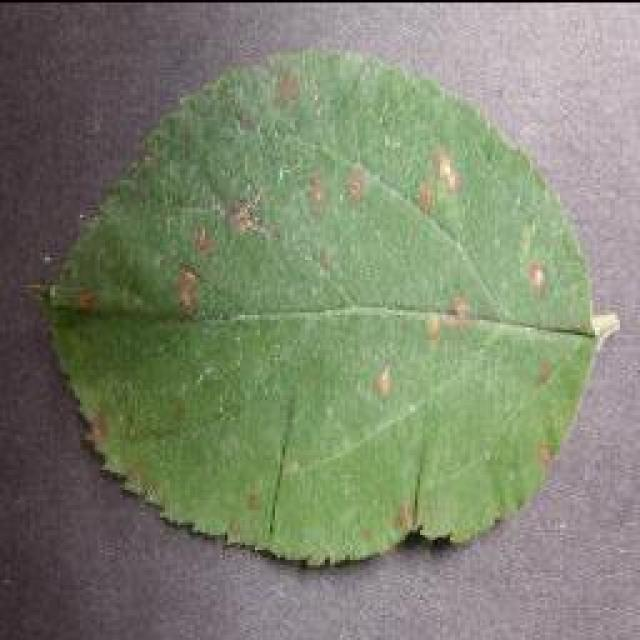apple healthy: (25, 42, 620, 568)
